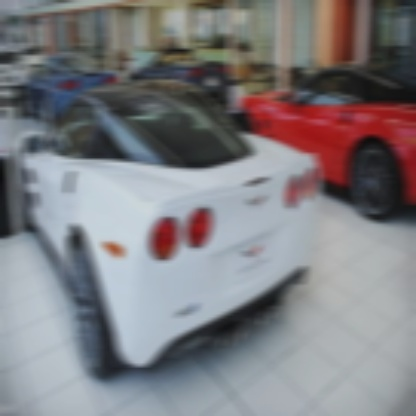Vehicle: (12, 74, 323, 386)
